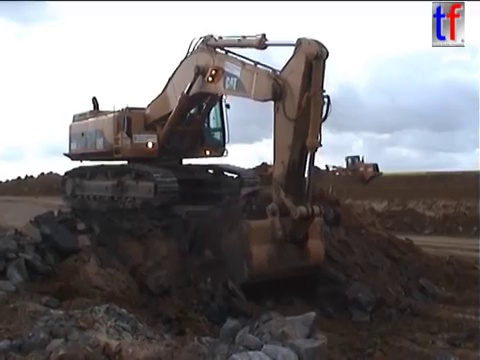excavator: (57, 30, 333, 288)
wheel loader: (311, 153, 385, 188)
